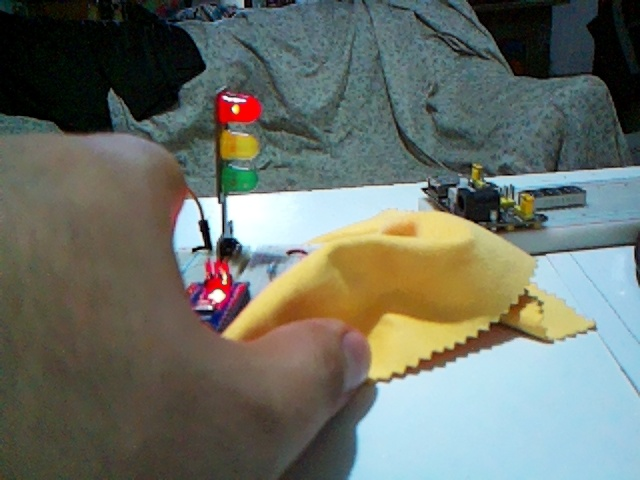traffic_light_red: (213, 90, 262, 278)
